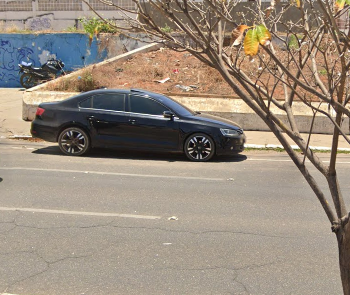car: (29, 83, 250, 171)
